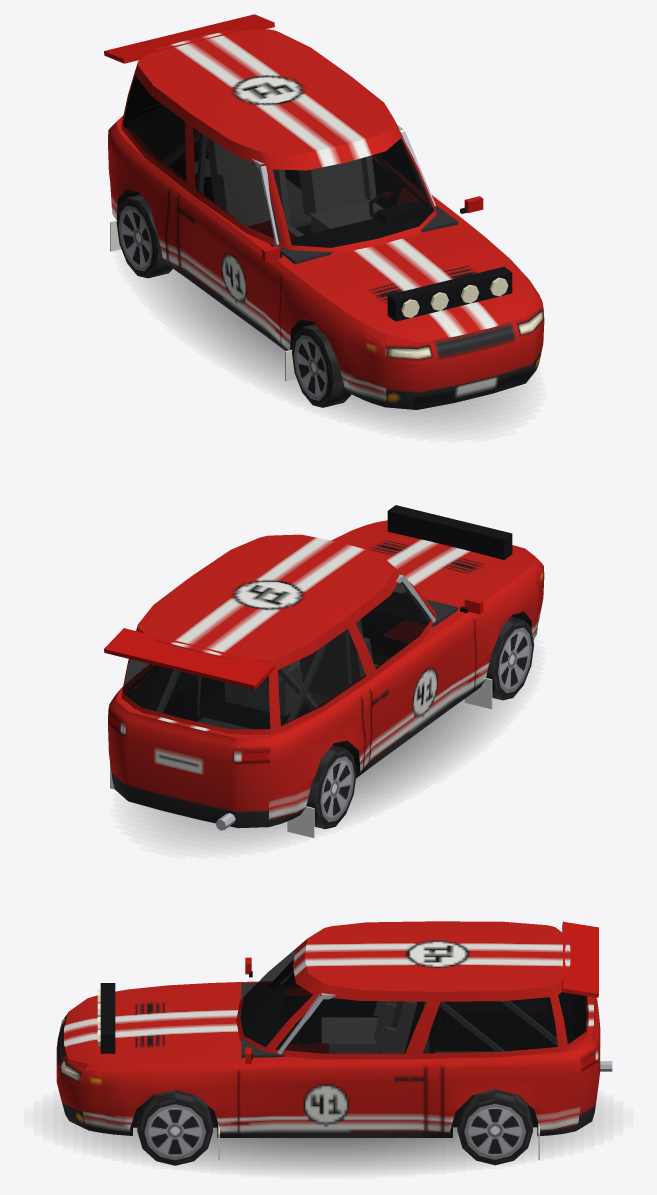
Rendered from trovoada.glb.
3 views of the same model, one above another, from view 1: azimuth 30°, elevation 25°; view 2: azimuth 150°, elevation 25°; view 3: azimuth 270°, elevation 25° (orthographic). The views are drawn at different scales.
Visible parts, largest first — view 1: Carroceria, Interior, Capo_malha, Porta_D_malha, Sombra, Roda_DD, Tampa_malha, Roda_TD, Porta_TD_malha, Porta_E_malha; view 2: Carroceria, Tampa_malha, Interior, Porta_D_malha, Capo_malha, Sombra, Roda_TD, Roda_DD, Porta_TD_malha; view 3: Carroceria, Porta_E_malha, Interior, Capo_malha, Sombra, Roda_TE, Roda_DE, Tampa_malha, Porta_TE_malha.
Part boxes in pixels (box(x1,y1,x2,y2)): Carroceria: box(108, 29, 544, 409); Interior: box(126, 107, 458, 264); Capo_malha: box(301, 231, 540, 341); Porta_D_malha: box(178, 117, 287, 342); Sombra: box(146, 269, 518, 428); Roda_DD: box(292, 324, 351, 407); Tampa_malha: box(104, 14, 274, 126); Roda_TD: box(116, 194, 172, 278); Porta_TD_malha: box(165, 110, 195, 266); Porta_E_malha: box(377, 120, 483, 213); Carroceria: box(108, 529, 544, 837); Tampa_malha: box(104, 628, 274, 808); Interior: box(126, 574, 458, 728); Porta_D_malha: box(354, 569, 483, 761); Capo_malha: box(335, 505, 540, 602); Sombra: box(137, 698, 508, 844); Roda_TD: box(306, 745, 356, 829); Roda_DD: box(486, 616, 533, 700); Porta_TD_malha: box(345, 612, 371, 768); Carroceria: box(56, 921, 612, 1160); Porta_E_malha: box(238, 985, 425, 1131); Interior: box(141, 966, 585, 1105); Capo_malha: box(69, 983, 223, 1071); Sombra: box(63, 1109, 593, 1170); Roda_TE: box(457, 1089, 532, 1165); Roda_DE: box(137, 1090, 212, 1165); Tampa_malha: box(555, 921, 600, 1085); Porta_TE_malha: box(426, 991, 442, 1132).
Size of the model in its own units: 2.42 by 1.51 by 5.15.
14 materials, 5 textured.
